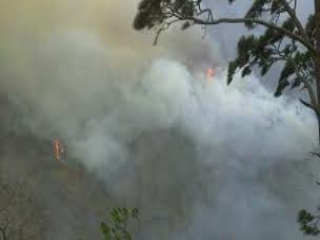fire: (50, 136, 71, 162), (201, 64, 217, 85)
smoke: (224, 66, 320, 170), (131, 58, 197, 135)
